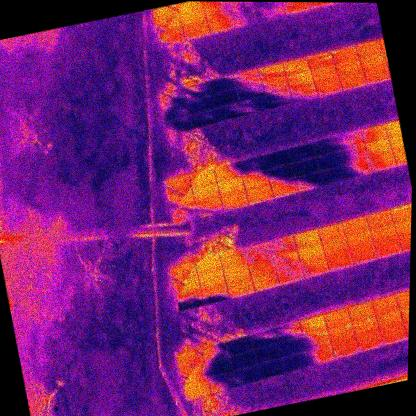Hotspot: (327, 321, 355, 345), (351, 315, 380, 338), (331, 338, 360, 359), (331, 44, 359, 64), (306, 50, 333, 69), (389, 202, 412, 223)
Normal: (317, 220, 347, 242), (244, 184, 275, 205), (182, 378, 213, 399), (374, 235, 401, 259), (226, 276, 254, 299), (350, 244, 379, 266), (313, 75, 343, 96), (375, 309, 405, 330), (371, 294, 401, 315), (250, 271, 279, 292), (321, 236, 350, 257), (194, 253, 223, 274), (342, 215, 371, 236), (220, 191, 249, 212), (192, 182, 221, 203), (216, 176, 246, 196), (347, 301, 377, 321), (326, 251, 354, 272), (173, 275, 201, 296), (346, 229, 374, 250), (170, 260, 198, 281), (293, 228, 321, 249), (363, 63, 391, 84), (379, 324, 407, 345), (323, 306, 351, 327), (369, 222, 398, 242), (339, 70, 368, 90), (281, 56, 310, 76), (355, 331, 384, 351), (299, 314, 328, 334), (223, 263, 251, 283), (297, 243, 325, 263), (365, 209, 393, 229), (364, 138, 392, 158), (189, 168, 217, 188), (182, 21, 210, 41), (311, 62, 338, 82), (335, 56, 362, 76), (198, 269, 226, 288), (220, 249, 248, 268), (369, 153, 397, 172), (207, 16, 235, 35), (361, 124, 388, 143), (179, 8, 206, 27), (355, 39, 383, 57), (360, 51, 387, 69), (393, 217, 411, 238), (283, 2, 310, 16), (395, 287, 410, 307), (397, 233, 411, 252), (399, 302, 409, 324), (306, 2, 333, 9)
Shadow: (170, 202, 200, 225), (175, 347, 205, 370), (200, 282, 230, 304), (246, 254, 276, 276), (241, 169, 271, 191), (189, 108, 219, 130), (342, 158, 373, 179), (231, 365, 262, 386), (280, 352, 311, 373), (303, 329, 331, 352), (272, 248, 301, 270), (165, 114, 194, 136), (275, 263, 305, 284), (267, 235, 297, 256), (266, 162, 296, 183), (163, 173, 193, 194), (236, 80, 266, 101), (306, 345, 336, 366), (203, 356, 233, 377), (176, 289, 204, 311), (301, 256, 329, 278), (244, 241, 272, 263), (196, 198, 225, 219), (239, 155, 268, 176), (257, 358, 286, 379), (250, 328, 279, 349), (212, 162, 242, 182), (214, 102, 244, 122), (211, 87, 241, 107), (228, 350, 258, 370), (225, 336, 255, 356), (271, 177, 299, 198), (295, 170, 323, 191), (315, 149, 343, 170), (240, 95, 268, 116), (187, 93, 215, 114), (254, 343, 282, 364), (201, 342, 229, 363), (291, 156, 320, 176), (265, 89, 294, 109), (161, 99, 190, 119), (208, 372, 237, 392), (180, 364, 209, 384), (279, 336, 308, 356), (319, 165, 347, 185), (157, 26, 185, 46), (167, 188, 196, 207), (340, 144, 369, 163), (286, 69, 315, 88), (233, 67, 262, 86), (232, 9, 261, 28), (204, 3, 233, 22), (263, 149, 291, 168), (288, 144, 316, 163), (313, 137, 341, 156), (290, 82, 318, 101), (159, 86, 187, 105), (184, 80, 212, 99), (208, 75, 236, 94), (258, 61, 286, 80), (154, 13, 182, 32), (275, 323, 303, 342), (261, 74, 288, 93), (337, 132, 365, 150), (258, 3, 285, 21), (230, 2, 257, 15), (255, 2, 281, 8)
